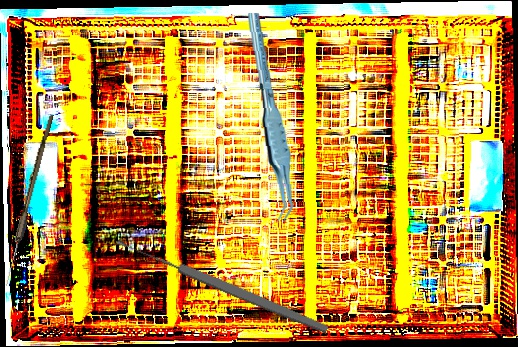Surgical Spoon: (115, 235, 330, 336), (3, 113, 54, 287)
Tissue Forceps: (245, 11, 296, 224)
